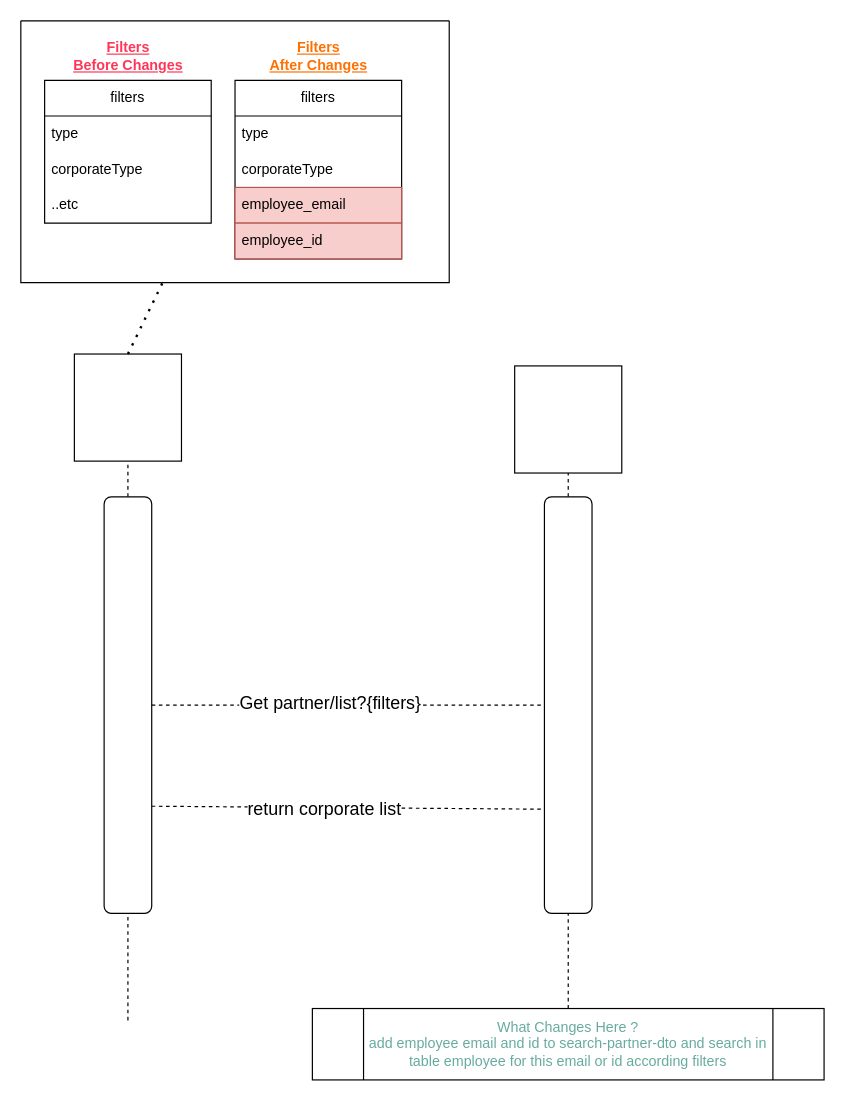
This 845x1101 diagram has some shape labels left out. The box of each missing label's shape, as (x1, y1, x2, y2) in pixels:
Back Office: (73, 353, 181, 461)
Corporate Management Service: (513, 365, 622, 473)
